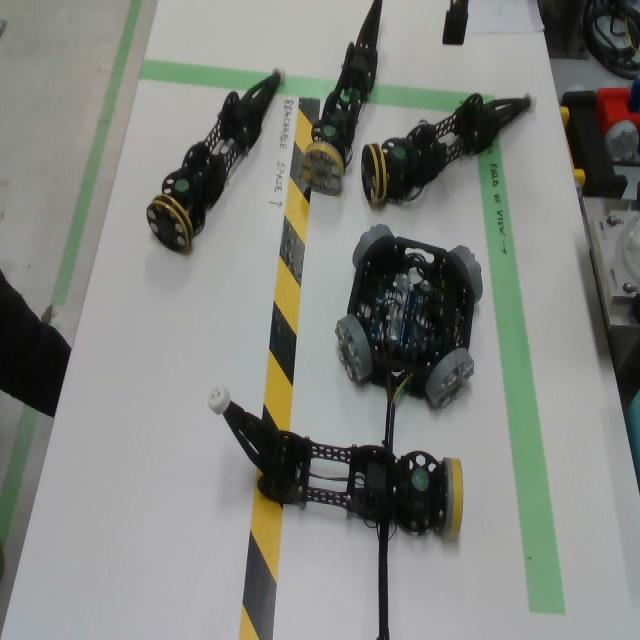body: (347, 237, 476, 401)
body_connector: (425, 348, 475, 409), (334, 315, 372, 383), (448, 245, 483, 304), (352, 224, 394, 269)
leg: (208, 384, 464, 539), (146, 64, 286, 252), (361, 92, 539, 205), (301, 0, 383, 196)
leg_connector: (146, 195, 193, 252), (302, 141, 345, 196), (442, 457, 464, 543)
leg_marker: (411, 468, 429, 491), (175, 179, 189, 192), (393, 147, 406, 159), (324, 125, 336, 137)
